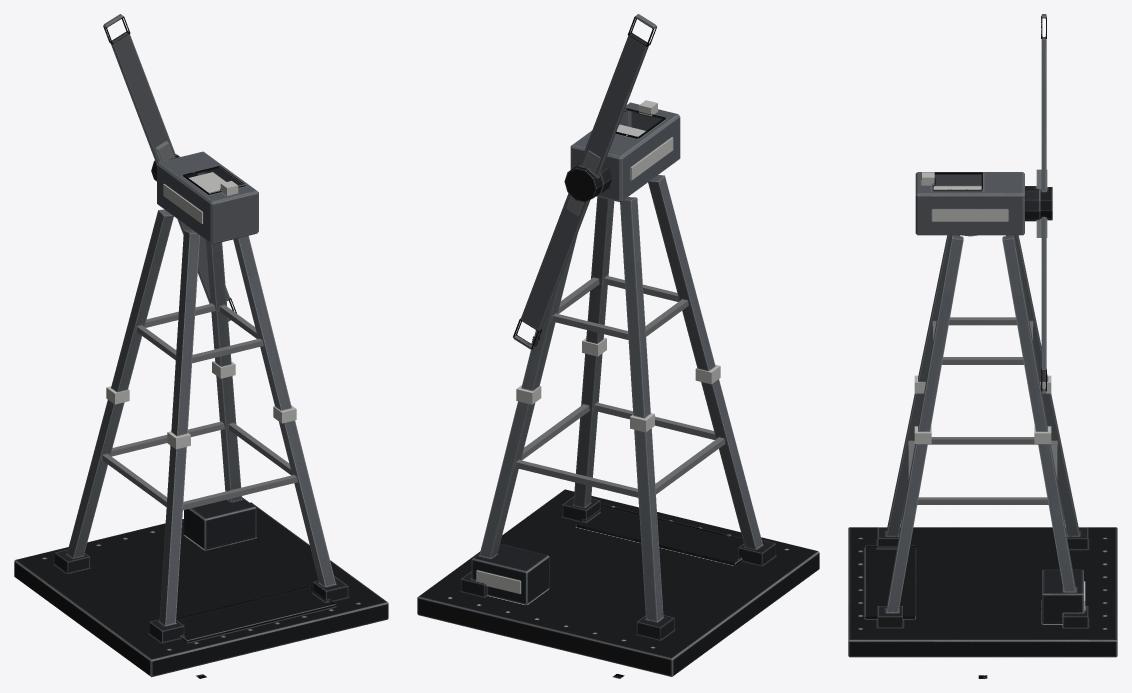
The model's file is chs_windmill.fbx.
The picture shows the model from 3 angles, left to right: view 1: azimuth 30°, elevation 25°; view 2: azimuth 150°, elevation 25°; view 3: azimuth 270°, elevation 25°; orthographic projection. The views are drawn at different scales.
Parts seen in each view (by area): view 1: base_bar, rotor_bar, base_glow_running_bar, base_glow_power_bar; view 2: base_bar, rotor_bar, base_glow_running_bar, base_glow_power_bar; view 3: base_bar, rotor_bar, base_glow_power_bar, base_glow_running_bar.
Boxes of the visible parts, <box> form: base_bar: <box>14,151,388,677</box>; rotor_bar: <box>103,14,236,321</box>; base_glow_running_bar: <box>106,181,296,449</box>; base_glow_power_bar: <box>163,172,225,223</box>; base_bar: <box>417,102,819,676</box>; rotor_bar: <box>513,14,656,349</box>; base_glow_running_bar: <box>516,100,720,432</box>; base_glow_power_bar: <box>476,124,673,593</box>; base_bar: <box>848,172,1117,657</box>; rotor_bar: <box>1025,14,1052,393</box>; base_glow_power_bar: <box>932,186,1085,610</box>; base_glow_running_bar: <box>914,172,1051,443</box>.
Bounding box in the file's own units: 640 × 1671 × 640.
Materials: 2 (2 with a texture image).
